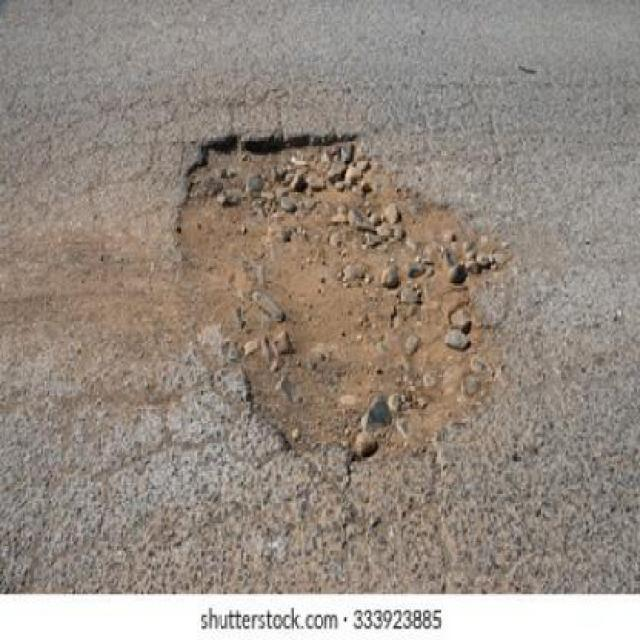pothole: (174, 128, 505, 465)
